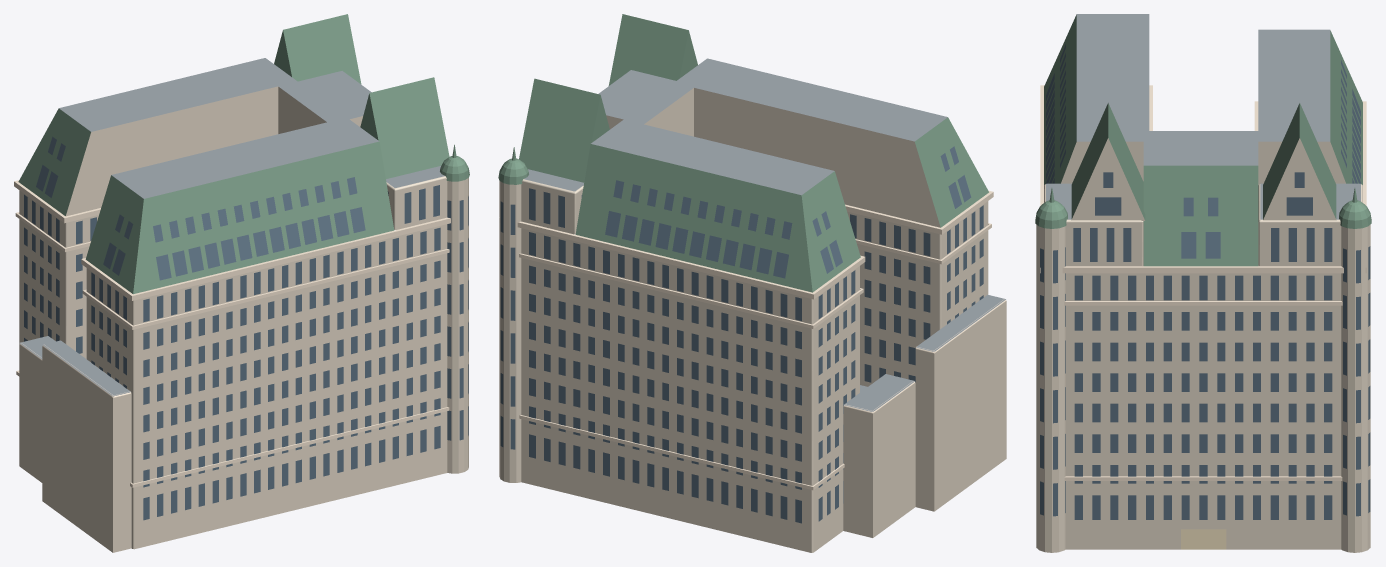
File: nyc-plaza-hotel.glb
3 views of the same model, side by side, from view 1: azimuth 30°, elevation 25°; view 2: azimuth 150°, elevation 25°; view 3: azimuth 270°, elevation 25° (orthographic). The views are drawn at different scales.
Parts seen in each view (by area): view 1: The Plaza; view 2: The Plaza; view 3: The Plaza.
Part boxes in pixels (x1,y1,x2,y2): The Plaza: [14, 14, 469, 552]; The Plaza: [498, 14, 1006, 552]; The Plaza: [1035, 14, 1371, 552].
Bounding box in the file's own units: 90.7 × 90 × 66.73.
